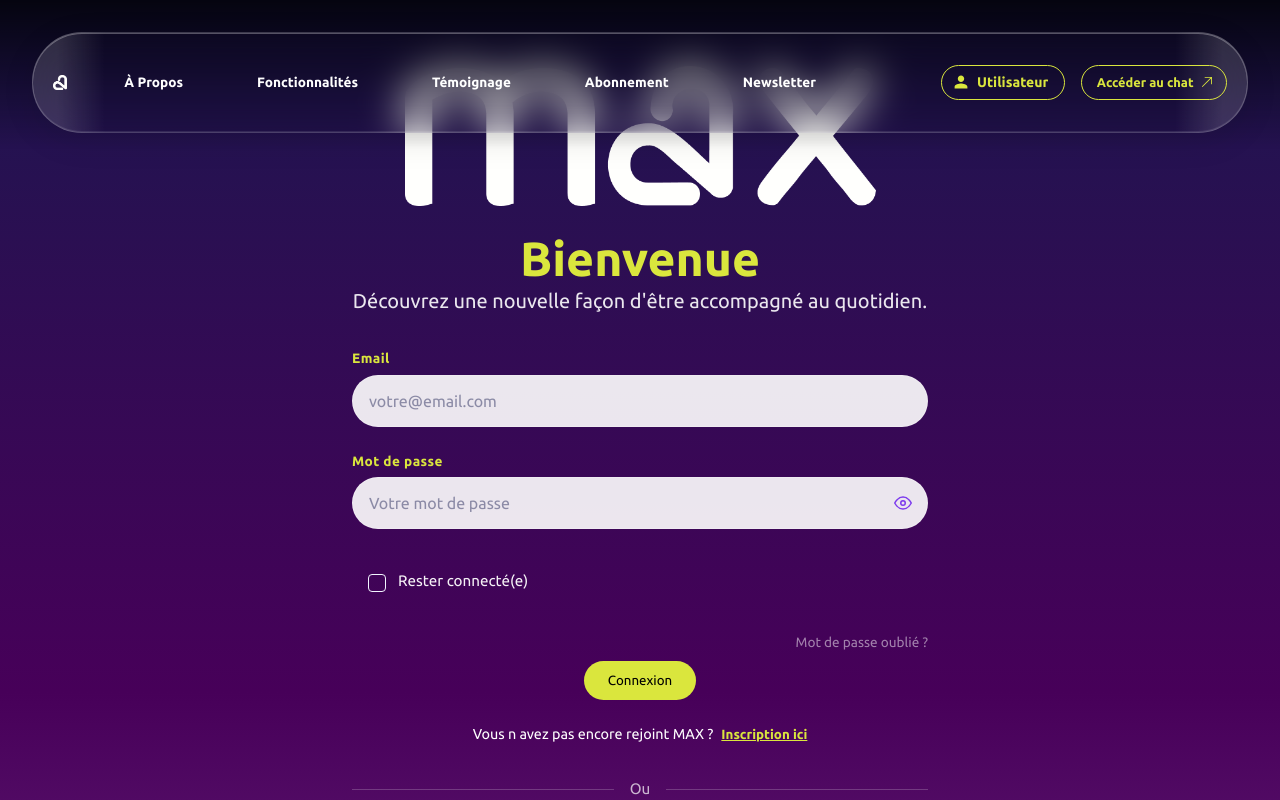
Test case: AuthUser Component - Extended Tests › UI State › disables submit button during loading
(page scrolled)
Type "test@example.com" into the field with placeholder "votre@email.com".
click(640, 401); type("test@example.com")  # box [352, 375, 928, 427]
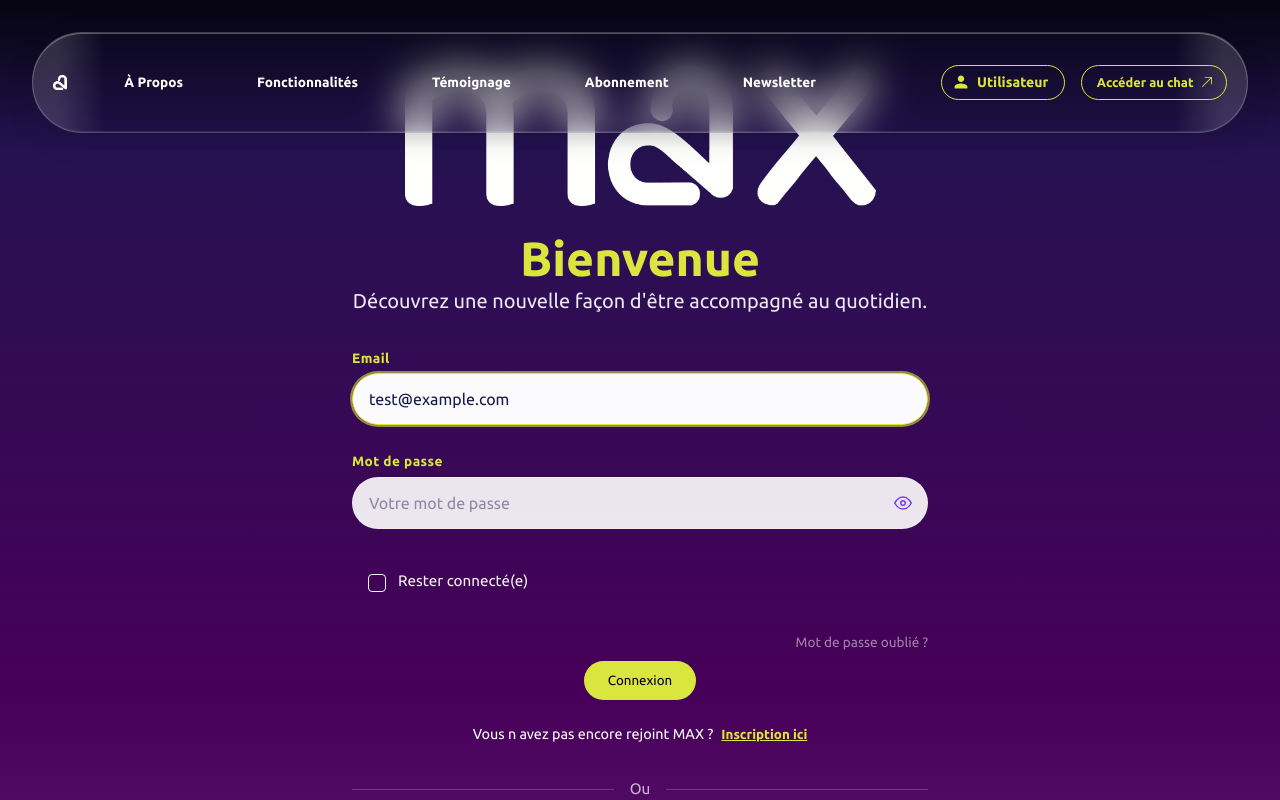
Type "password123" into the password field with placeholder "Votre mot de passe".
click(640, 503); type("password123")  # box [352, 477, 928, 529]
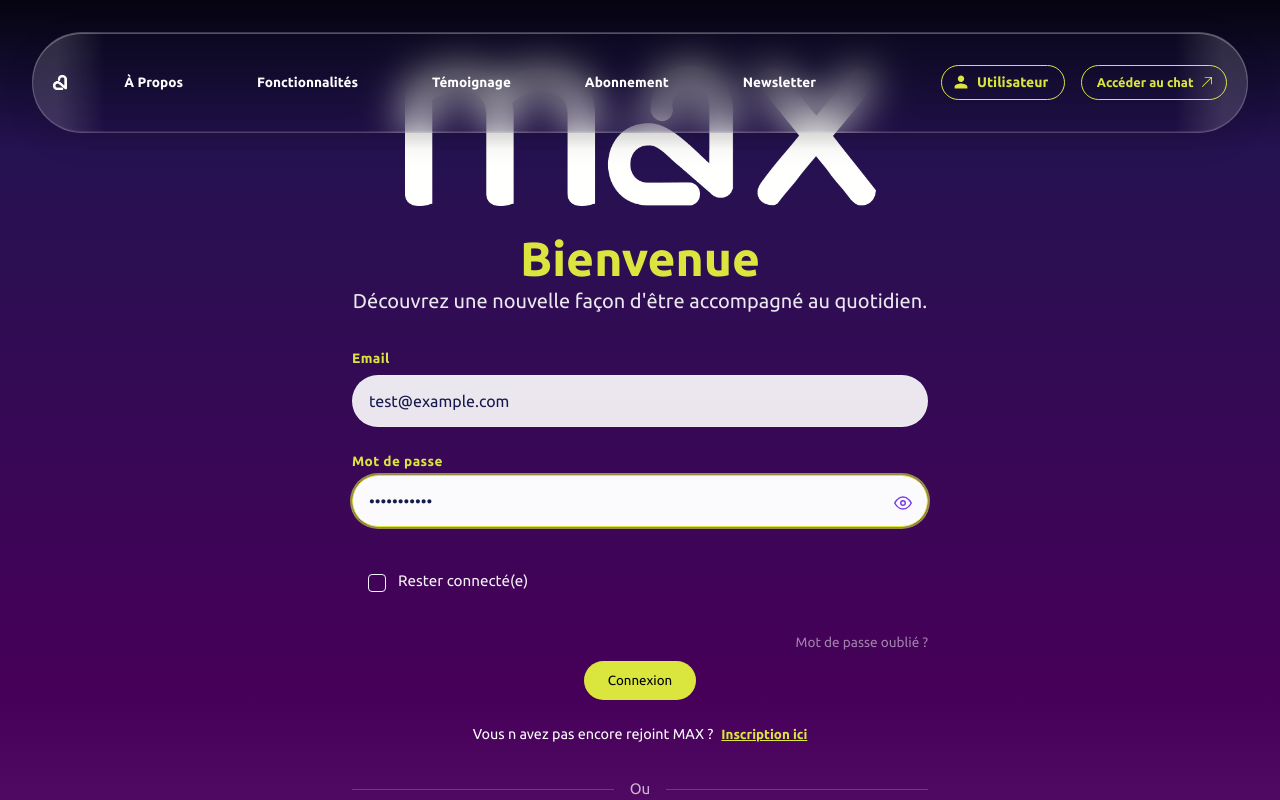
Click the button "Connexion".
click(640, 681)  # box [584, 661, 696, 700]
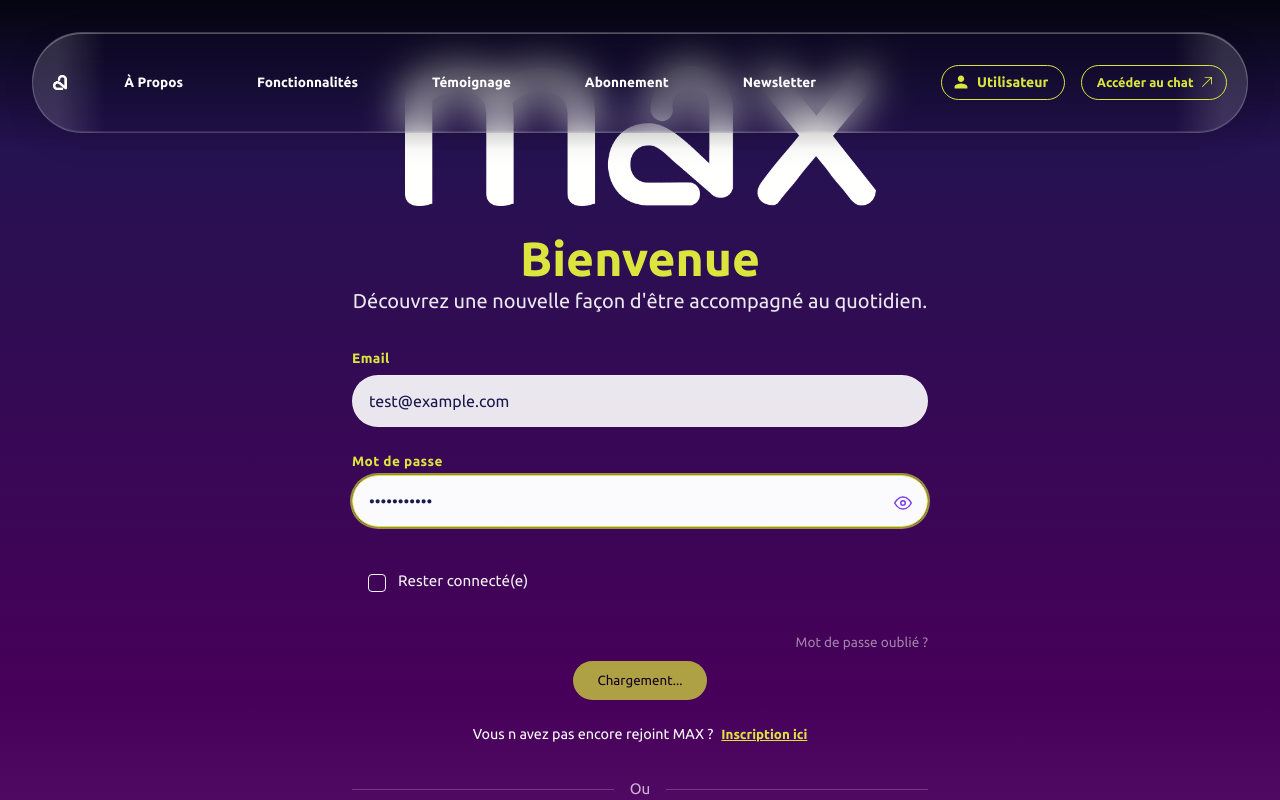
Check: the button "Chargement..." is disabled, box [574, 661, 706, 700]
